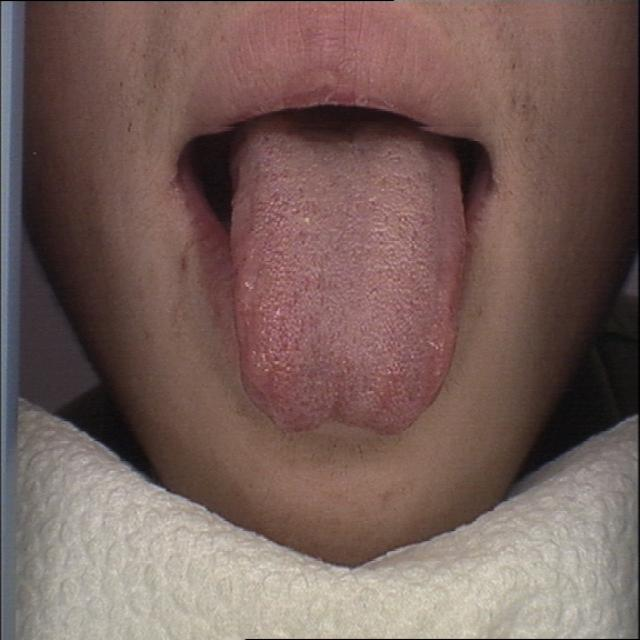tongue: (222, 121, 470, 446)
